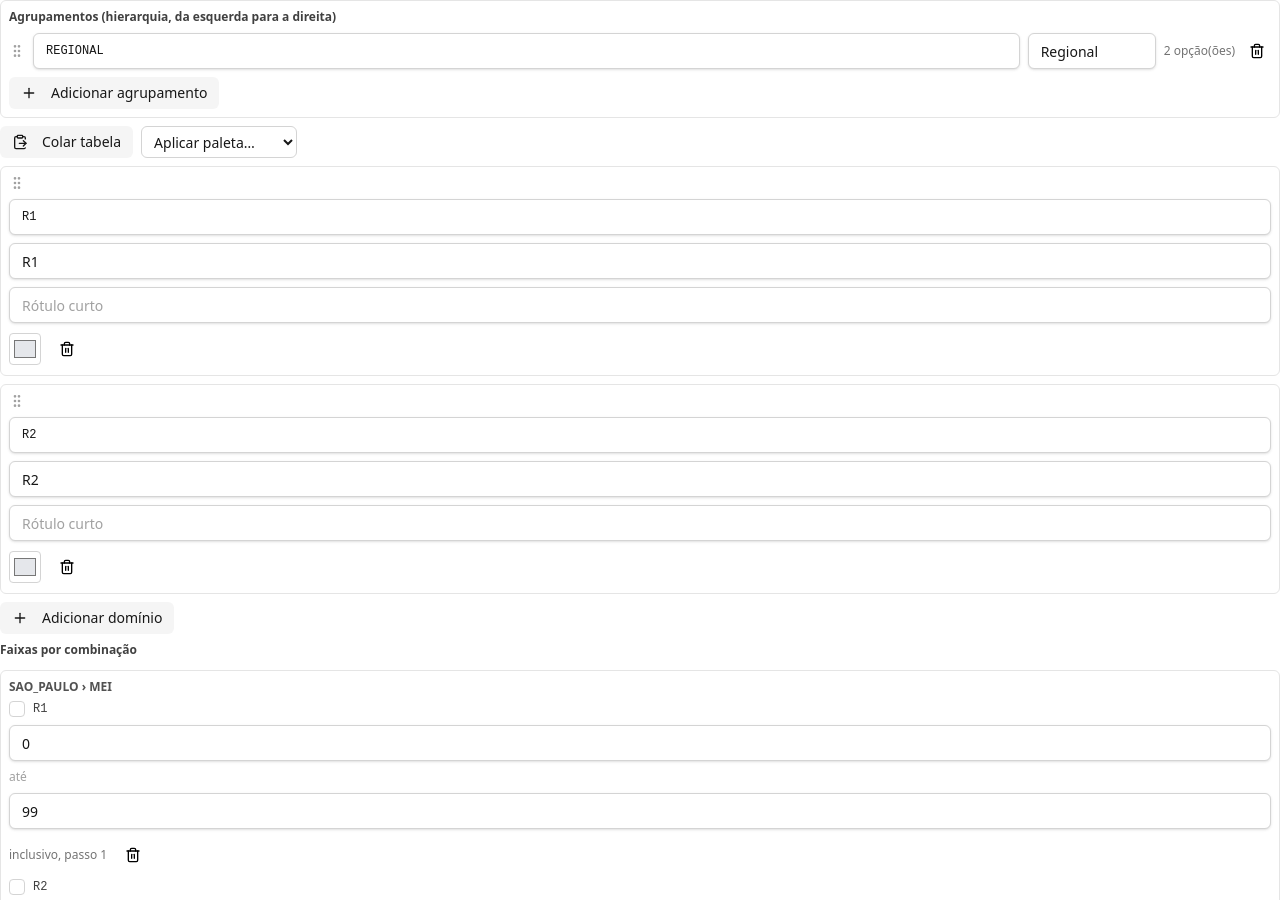
Test: DomainsEditor — agrupamentos hierárquicos (docs/07 §11) › remover o último nível volta ao modo simples e limpa as faixas agrupadas
Click the button named "Remover agrupamento \"REGIONAL\"". click: x=1257, y=51
box: top-left (1243, 33), bottom-right (1271, 69)
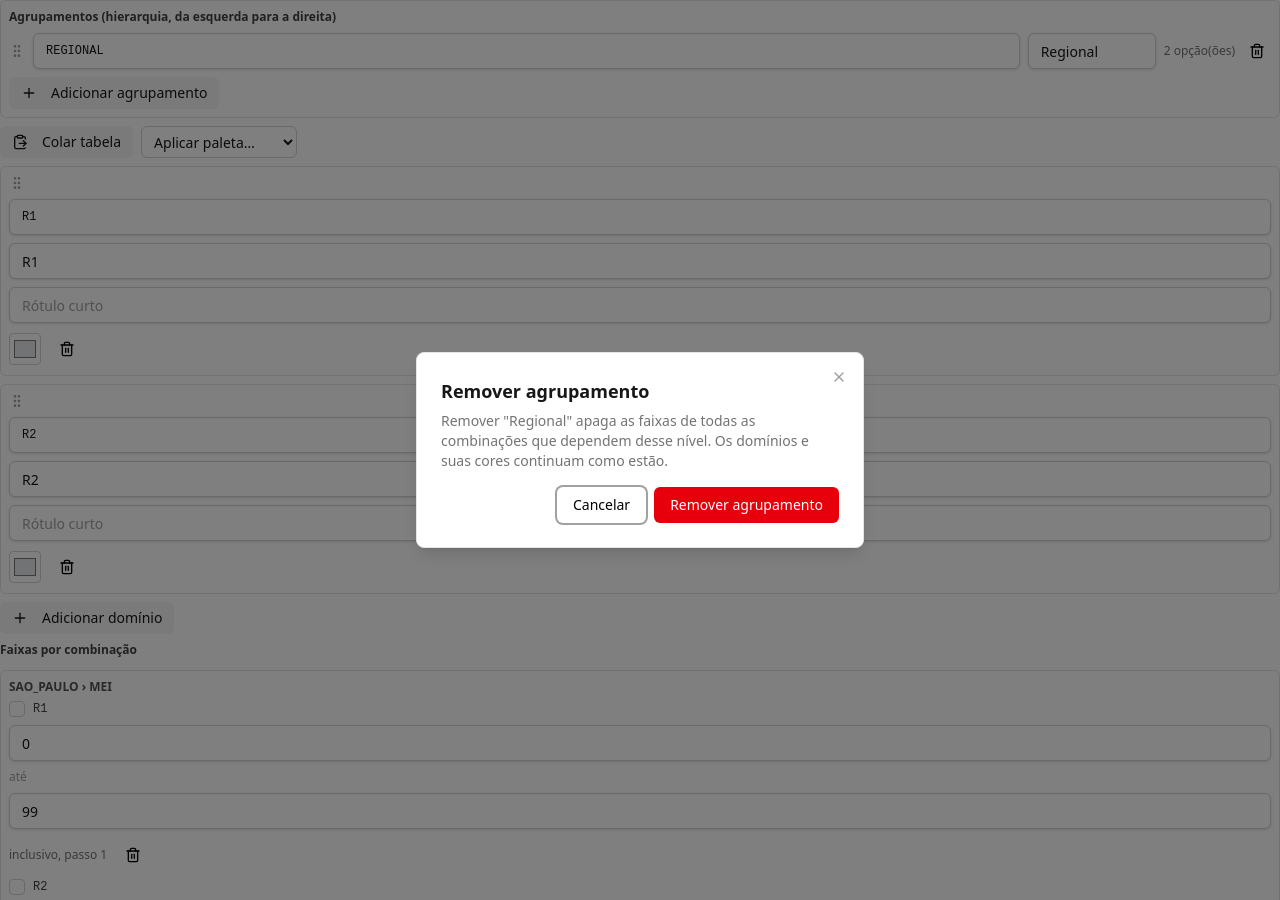
# Remover apaga faixas: passa por confirmação (docs/07 §11).
Click the button "Remover agrupamento". click: x=747, y=505
box: top-left (654, 487), bottom-right (839, 523)
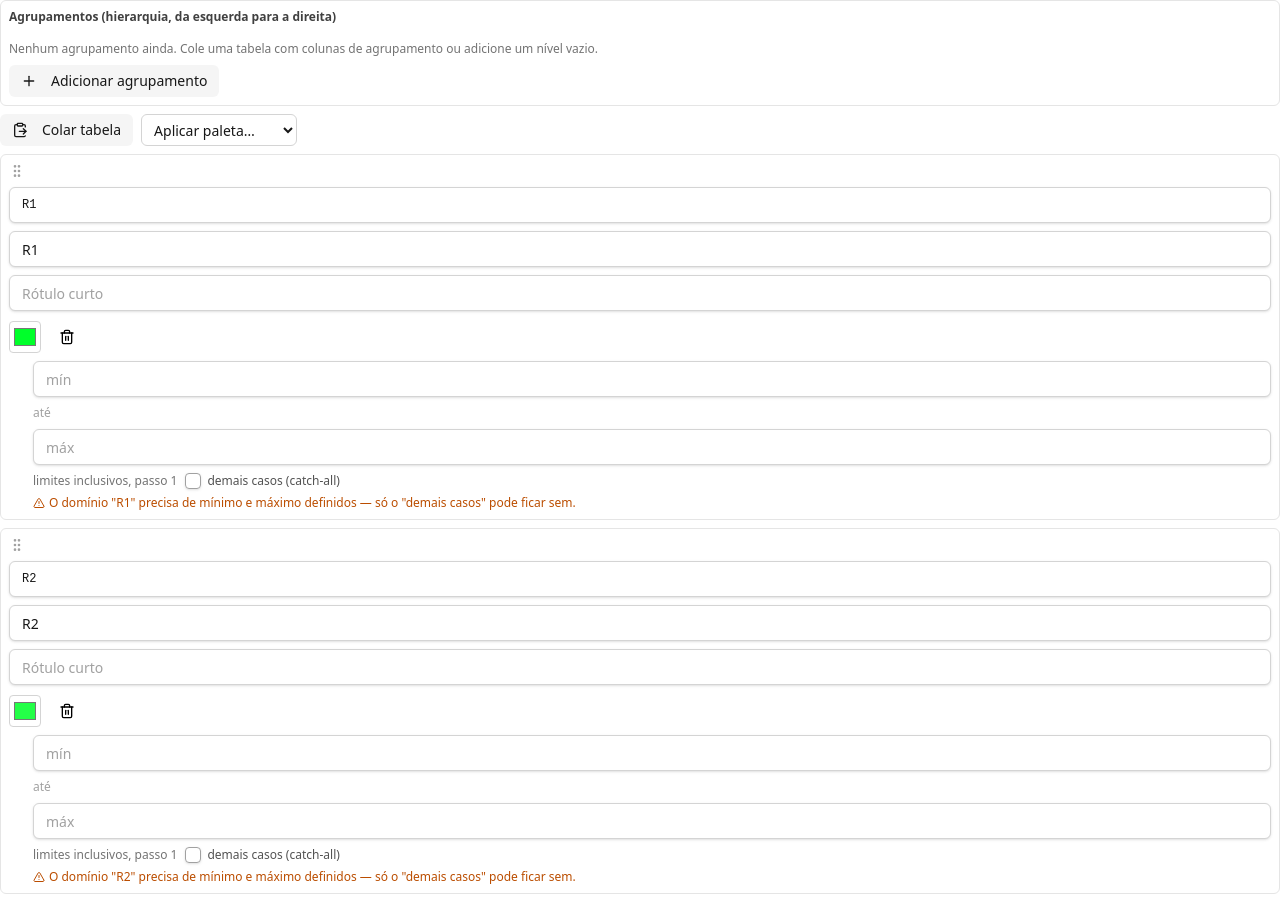
Now the text "Faixas por combinação" is gone
Now the number of fields named "Mínimo" is 2, box top-left (33, 361), bottom-right (1271, 397); top-left (33, 735), bottom-right (1271, 771)
